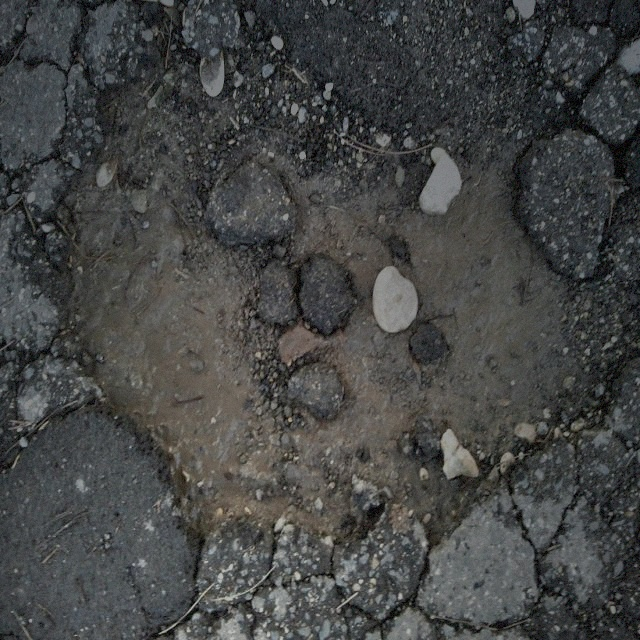pothole: (40, 32, 613, 558)
